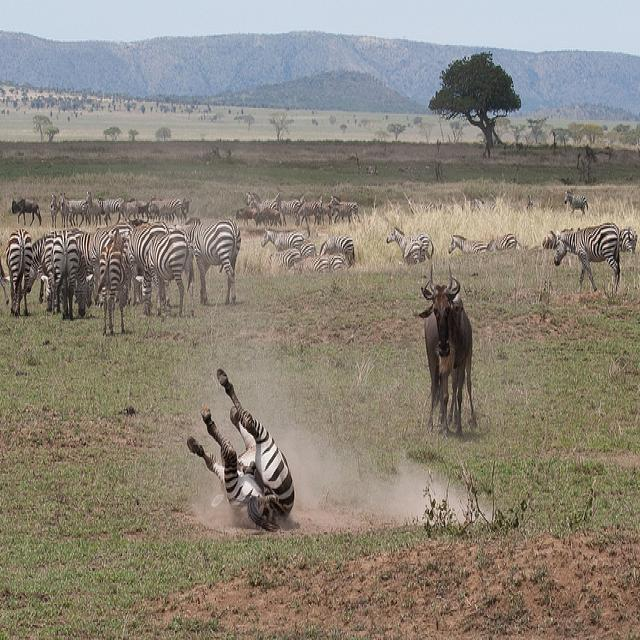cow: (411, 258, 475, 435)
